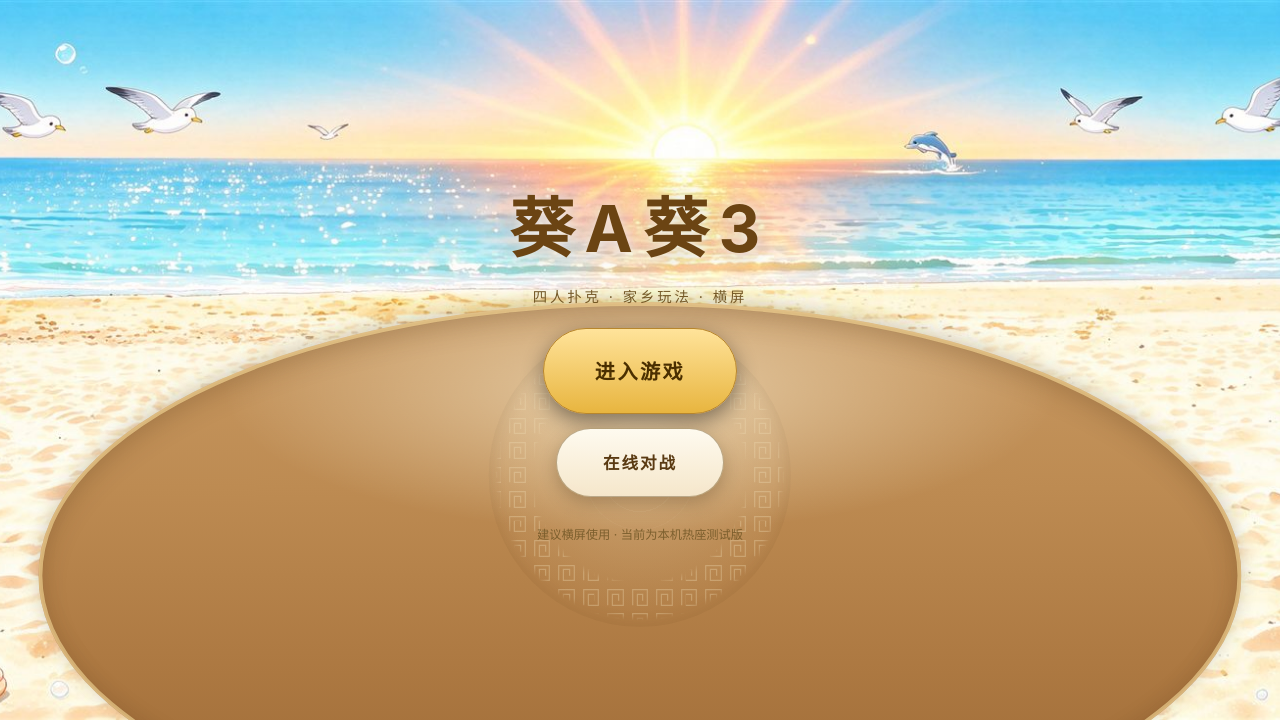
Test case: M2 横屏界面（jsdom） › 规则速查：点「?」打开浮层
Click the button "进入游戏": (640, 371) left=543, top=328, right=737, bottom=414
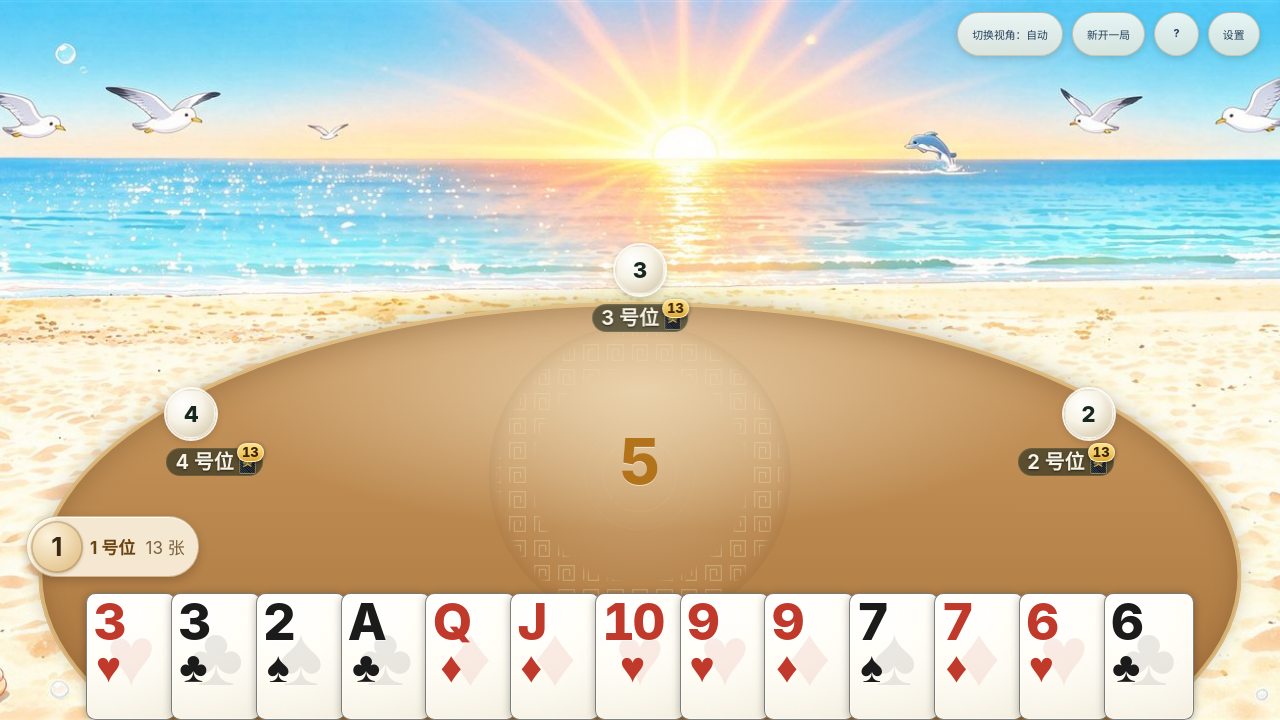
Click the button named "规则速查": (1176, 34) left=1154, top=12, right=1199, bottom=56
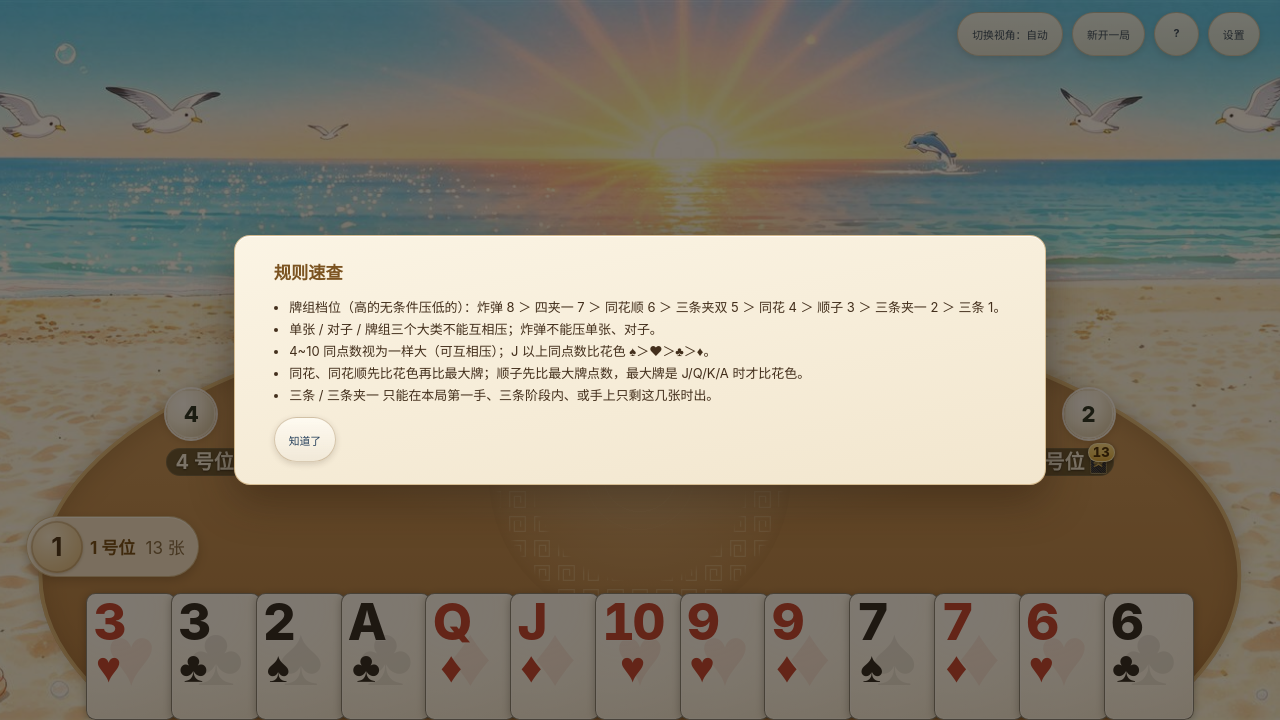
expect the list item "牌组档位（高的无条件压低的）" is shown: met, box left=289, top=299, right=1006, bottom=315
